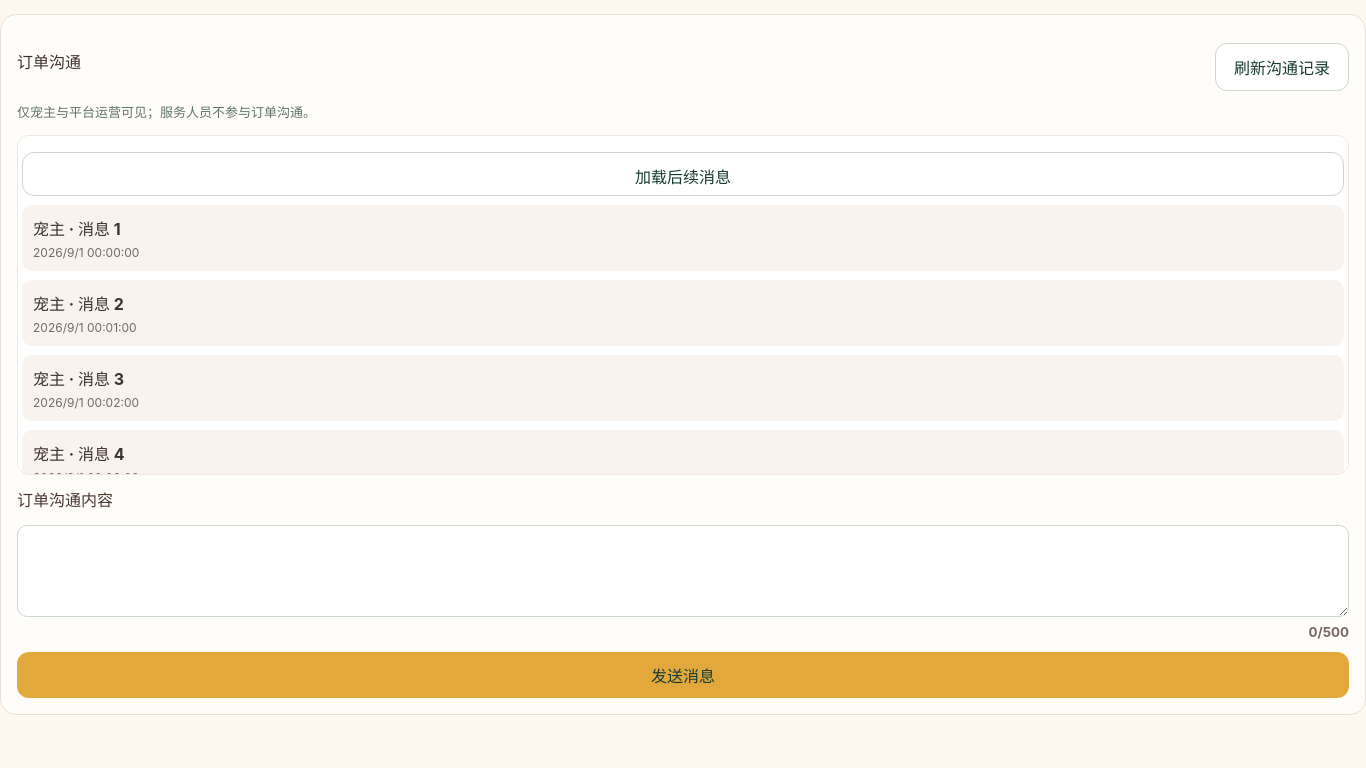
Scenario: OrderConversation › keeps 51 ascending messages chronological and deduplicated across after-cursor pages
Click the button "加载后续消息" at (683, 174), box [22,152,1344,196]
(page scrolled)
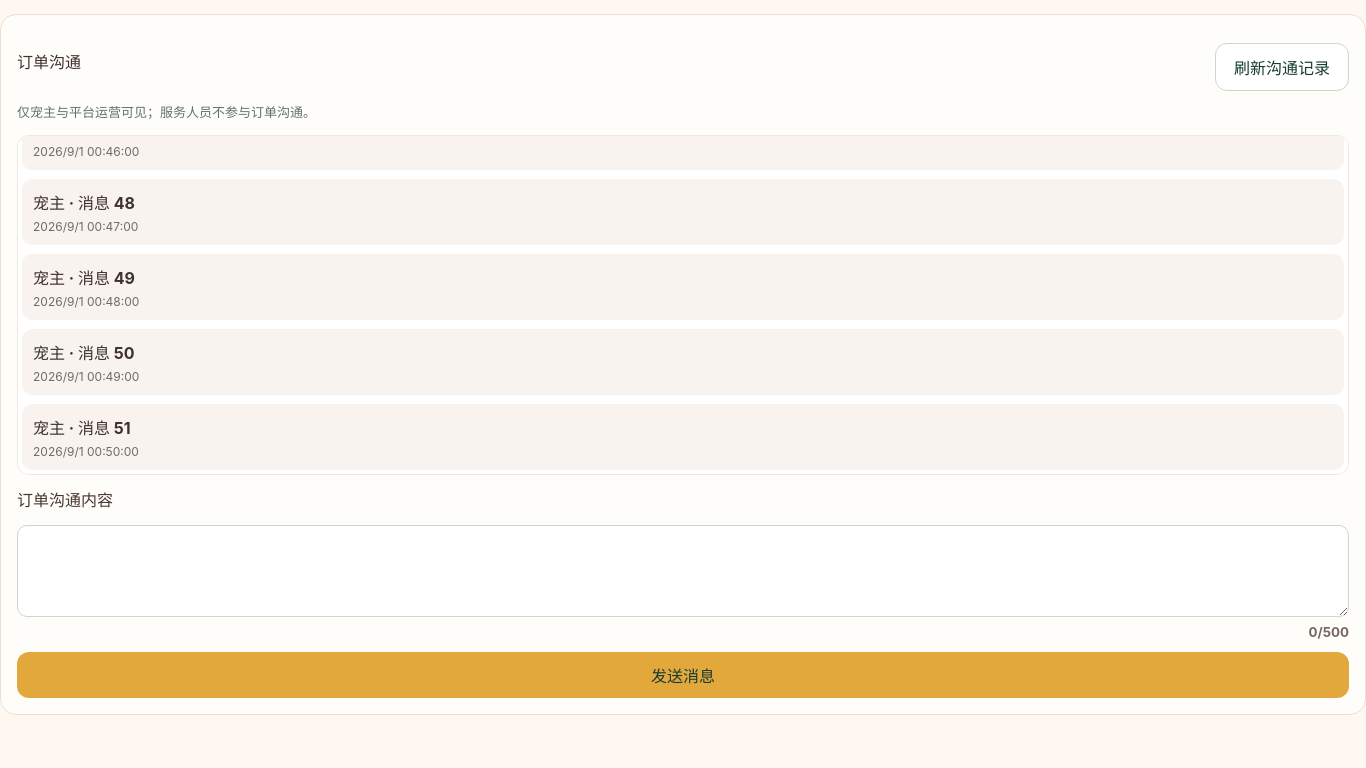
Result: the text "宠主 · 消息 51" is shown at [33,418,131,438]
